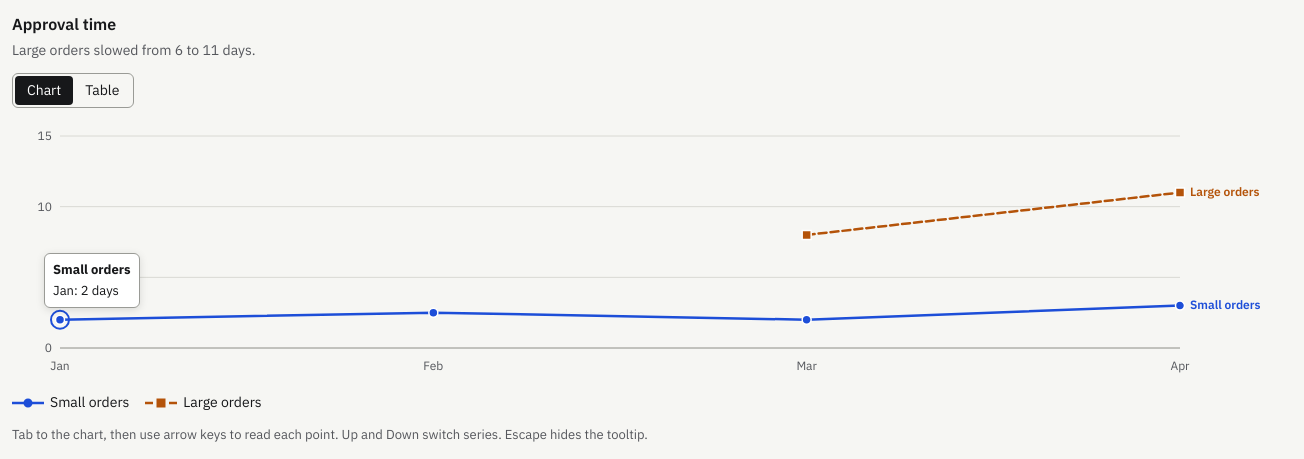
Test case: AccessibleChart › skips missing values when moving and shows them as "No data" in the table (edge case)
Press Arrowdown Arrowright
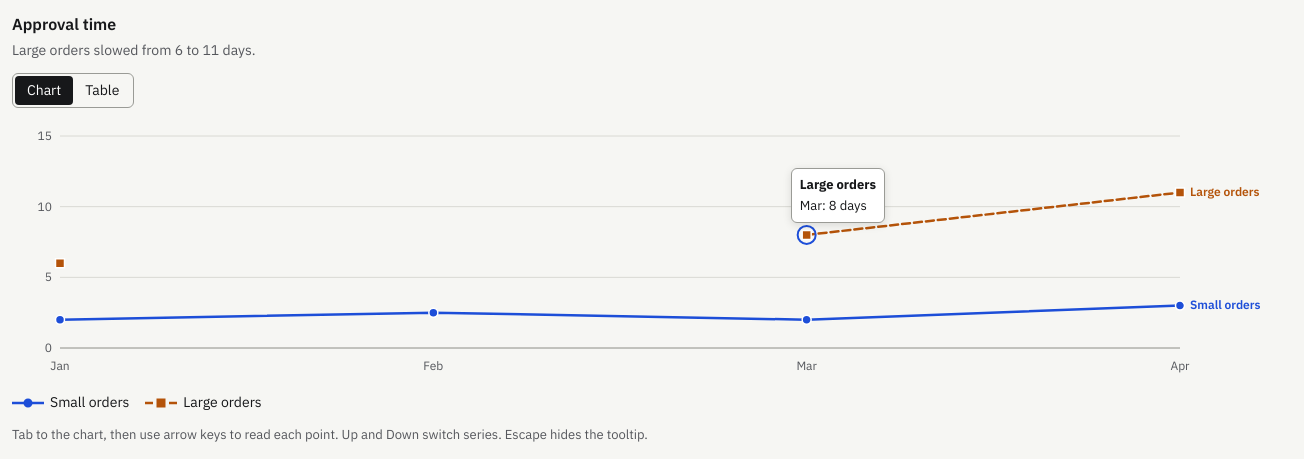
Click the radio button labelled "Table" at (102, 90), box [85, 81, 119, 99]
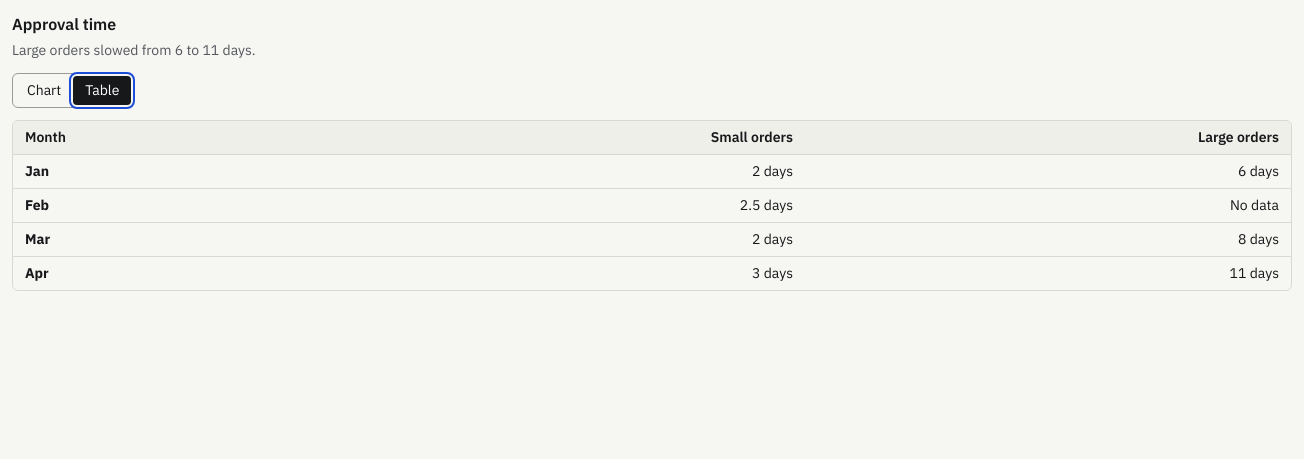
Expected: the cell "No data" is shown, [805, 188, 1291, 222]
